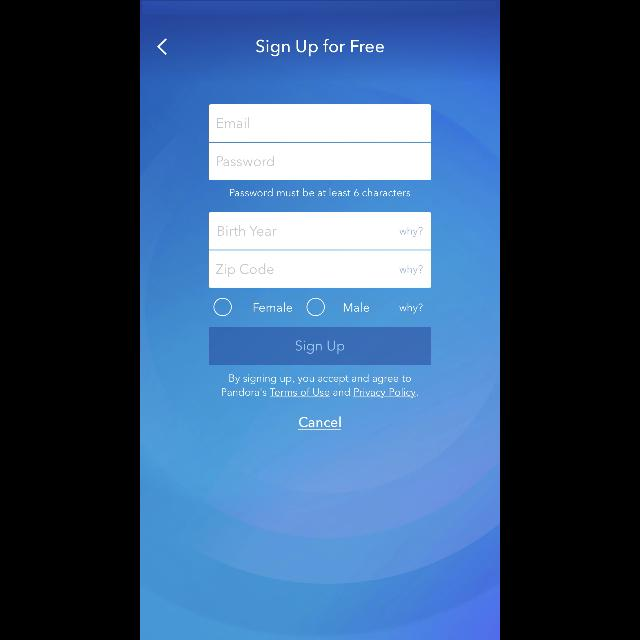backgroundimage: (140, 1, 500, 640)
checkbox: (214, 298, 232, 316), (307, 298, 325, 316)
icon: (158, 39, 166, 55)
input: (209, 250, 431, 288), (209, 212, 431, 250), (209, 105, 431, 142), (209, 144, 431, 180)
text: (222, 374, 418, 398), (256, 40, 384, 56), (230, 188, 410, 196), (216, 263, 274, 277), (218, 156, 274, 167), (218, 226, 276, 236), (298, 416, 342, 429), (254, 302, 292, 312), (217, 118, 249, 128), (400, 302, 422, 314), (344, 302, 370, 312), (400, 227, 422, 237), (400, 265, 422, 275)
textbutton: (209, 327, 431, 365)
